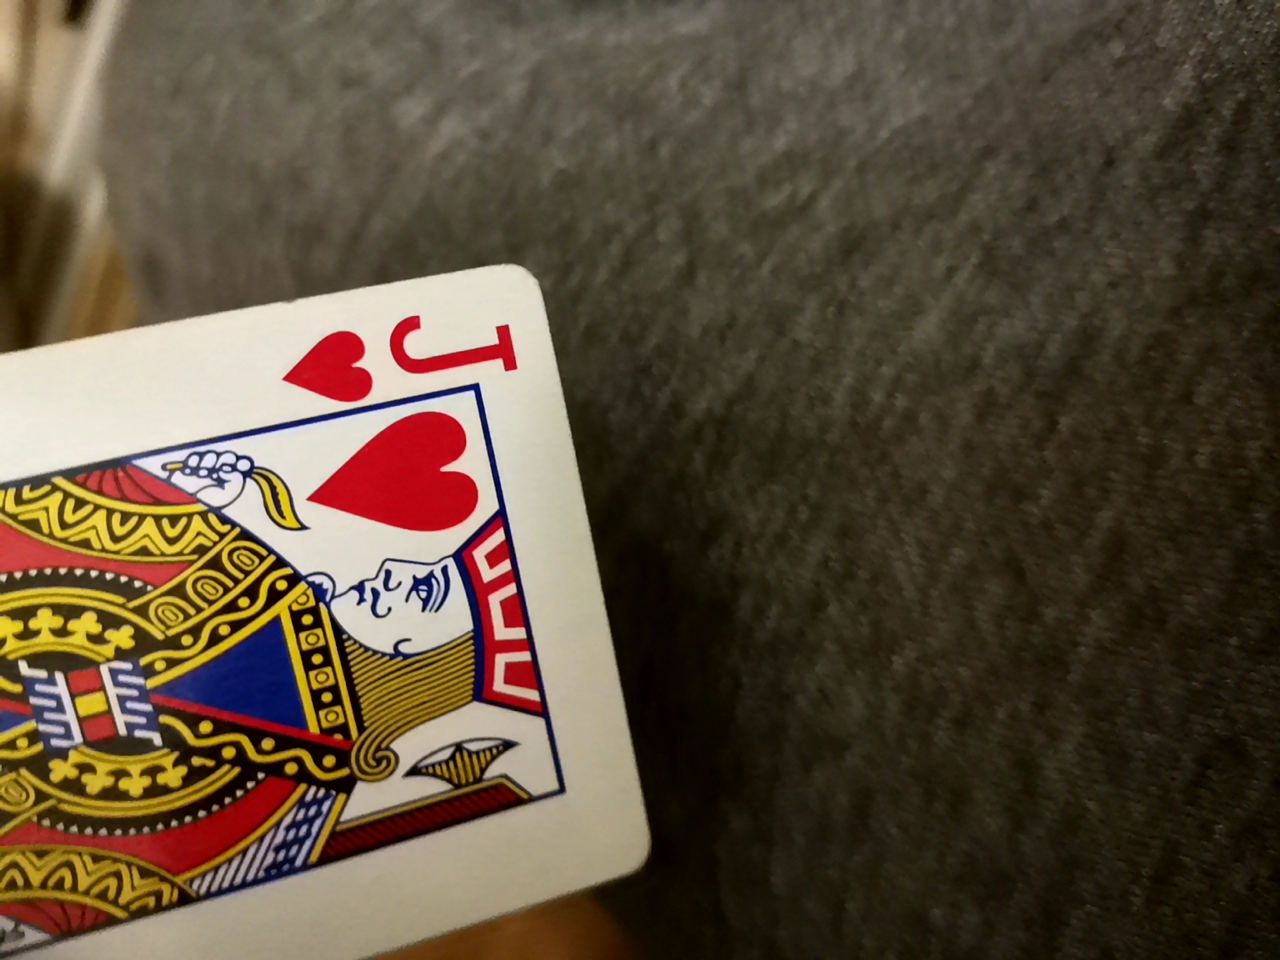hx j: (4, 271, 655, 957)
